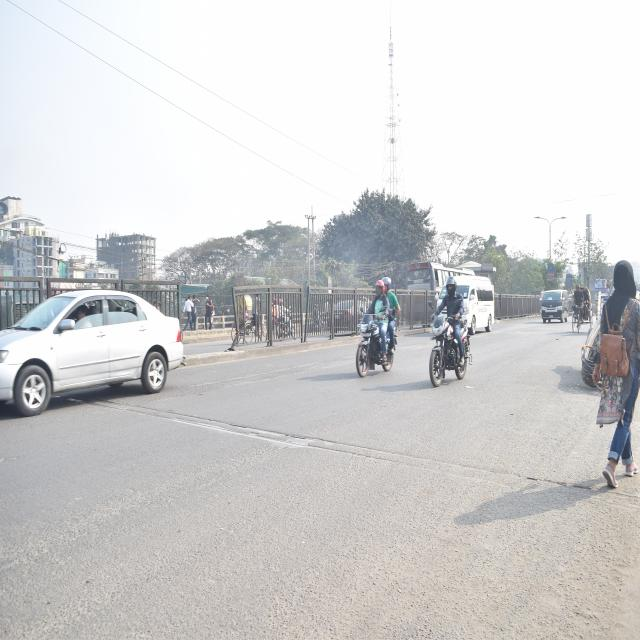car: (0, 282, 190, 436)
microbus: (449, 266, 498, 336), (538, 279, 570, 331)
motorbike: (420, 297, 478, 395), (346, 298, 403, 387)
